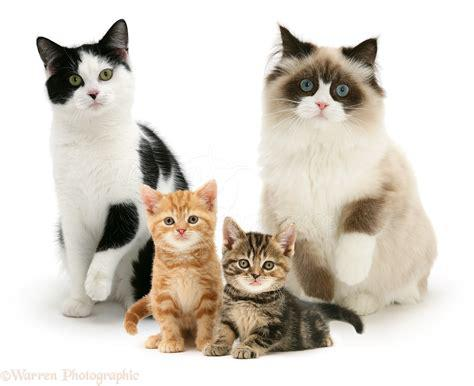cat: (262, 25, 437, 316), (36, 19, 187, 317), (205, 217, 361, 359), (124, 180, 217, 352)
